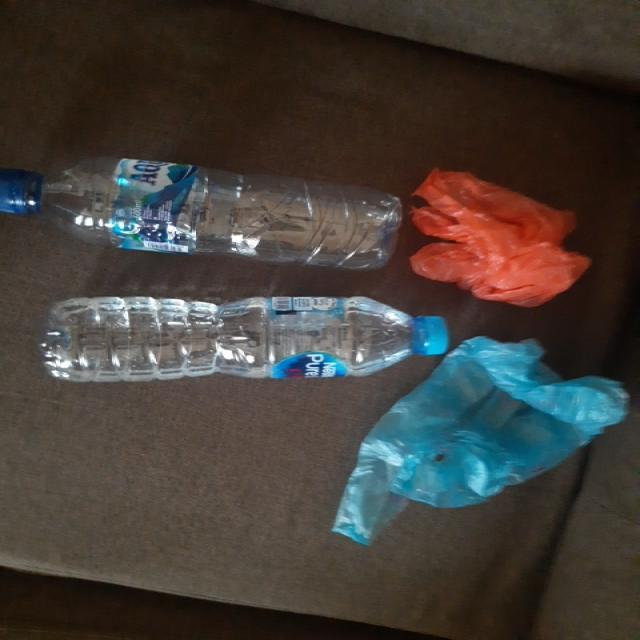Single-layer Plastic: (332, 336, 628, 544), (410, 169, 591, 307)
